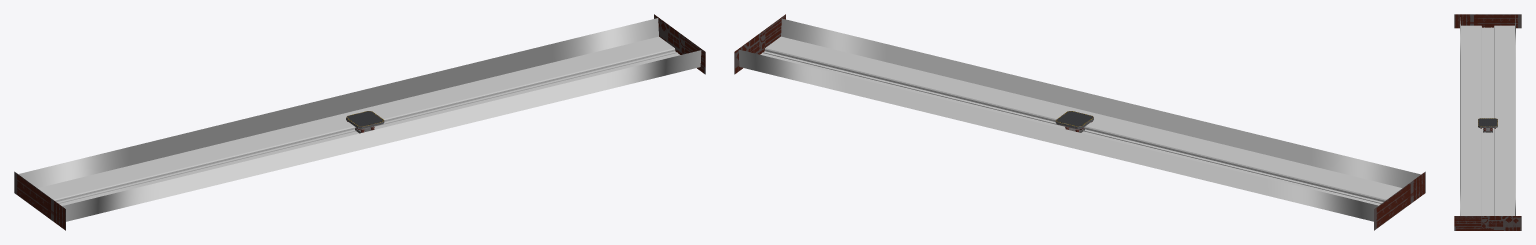
File: stage2_chk.fbx
The picture shows the model from 3 angles, left to right: view 1: azimuth 30°, elevation 25°; view 2: azimuth 150°, elevation 25°; view 3: azimuth 270°, elevation 25°; orthographic projection. The views are drawn at different scales.
Parts seen in each view (by area): view 1: foundation3, stage_tail; view 2: foundation3, stage_tail; view 3: foundation3, stage_tail, stage_foundation.
Part boxes in pixels (x1,y1,x2,y2): foundation3: [14, 14, 705, 230]; stage_tail: [347, 111, 382, 126]; foundation3: [734, 14, 1425, 230]; stage_tail: [1057, 111, 1092, 126]; foundation3: [1454, 14, 1521, 230]; stage_tail: [1478, 118, 1497, 126]; stage_foundation: [1478, 118, 1497, 132].
Bounding box in the file's own units: 14.6 × 0.5 × 2.05.
